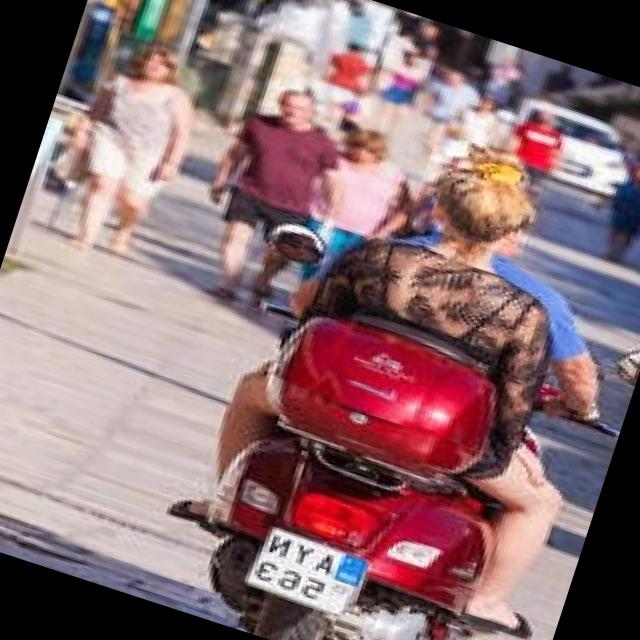without helmet: (408, 144, 546, 260)
